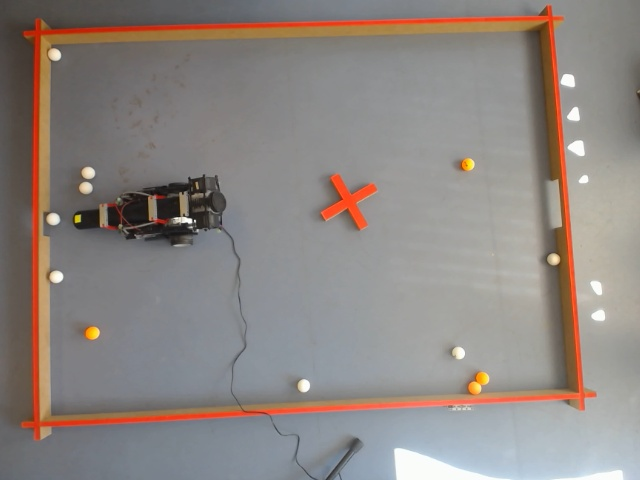orange: (82, 325, 103, 343), (471, 372, 489, 392), (459, 156, 477, 174), (473, 370, 491, 386), (467, 381, 482, 396)
robot: (103, 174, 226, 246)
white: (597, 469, 625, 480), (295, 377, 312, 395), (47, 269, 66, 285), (545, 252, 562, 269), (449, 345, 467, 361), (590, 308, 608, 324), (44, 211, 61, 227), (560, 72, 576, 89), (572, 138, 585, 157), (80, 165, 96, 180), (568, 105, 581, 123), (590, 278, 603, 296), (47, 46, 61, 61), (78, 181, 93, 195), (577, 173, 591, 186), (73, 213, 81, 225)
